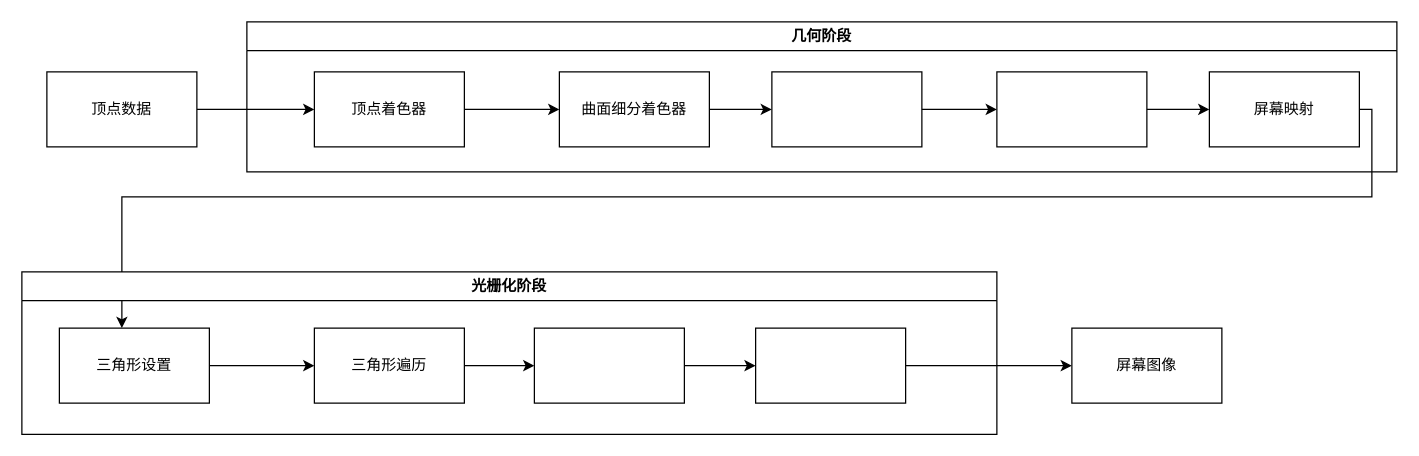
This 1419x456 diagram has some shape labels left out. Here are the shapes that lost their labels. From the top down, the centre of each, then its label:
At (x=846, y=109): "几何着色器".
At (x=1071, y=109): "裁剪".
At (x=608, y=365): "片元着色器".
At (x=830, y=365): "逐片元操作".
